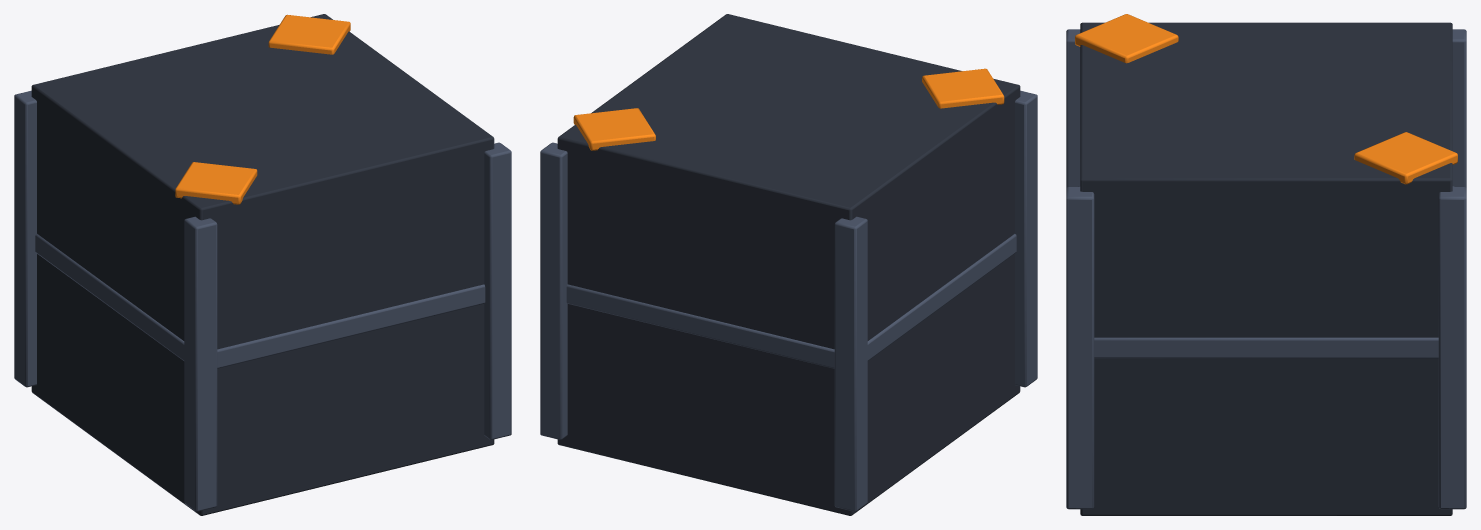
Rendered from crate_s.glb.
3 views of the same model, side by side, from view 1: azimuth 30°, elevation 25°; view 2: azimuth 150°, elevation 25°; view 3: azimuth 270°, elevation 25° (orthographic). The views are drawn at different scales.
Visible parts, largest first — view 1: crate_s; view 2: crate_s; view 3: crate_s.
Part boxes in pixels (box(x1,y1,x2,y2)): crate_s: box(14, 14, 511, 515); crate_s: box(540, 14, 1037, 515); crate_s: box(1066, 14, 1466, 515).
Size of the model in its own units: 0.86 by 0.8155 by 0.86.
